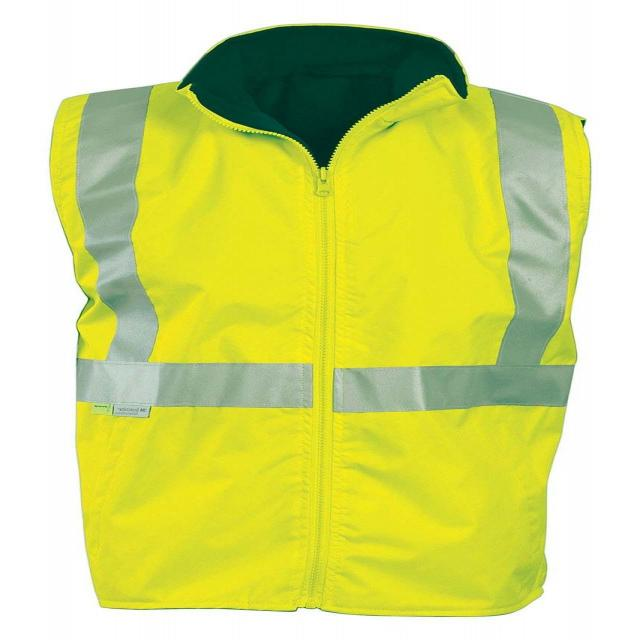Reflective-Jacket: (26, 28, 632, 640)
